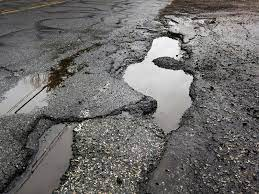potholes: (114, 30, 214, 135)
